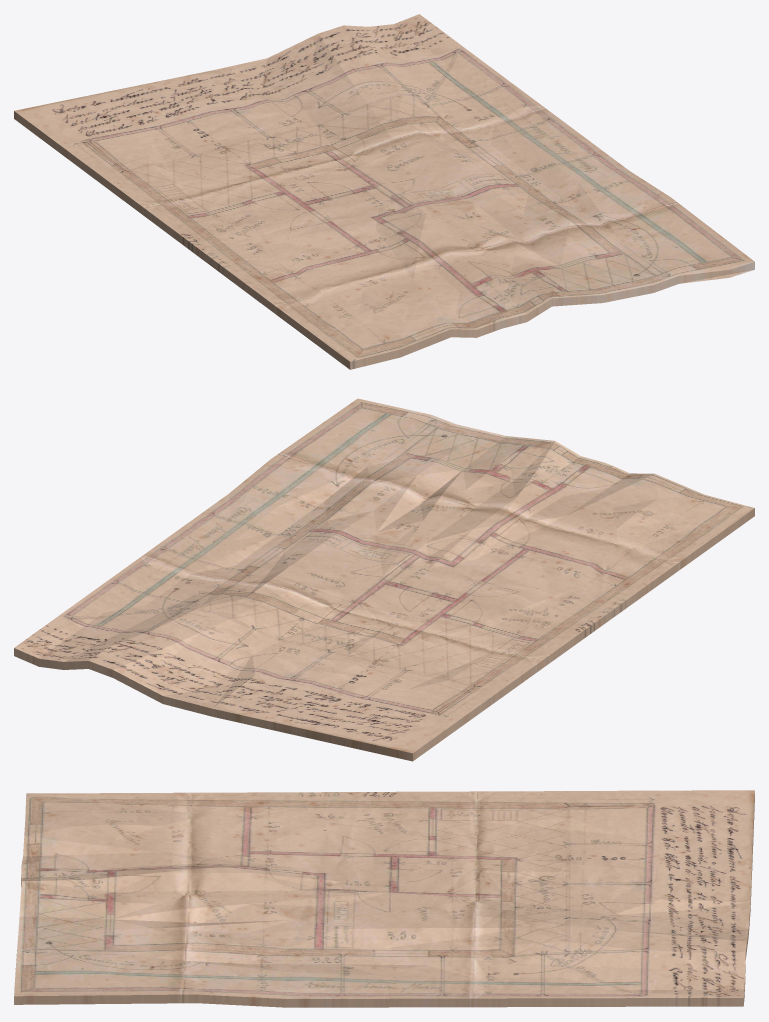
File: papier2.fbx
3 views of the same model, one above another, from view 1: azimuth 30°, elevation 25°; view 2: azimuth 150°, elevation 25°; view 3: azimuth 270°, elevation 25° (orthographic). The views are drawn at different scales.
Visible parts, largest first — view 1: Plane.001; view 2: Plane.001; view 3: Plane.001.
Boxes of the visible parts, bbox=[...] form: Plane.001: bbox=[14, 14, 754, 369]; Plane.001: bbox=[14, 398, 754, 761]; Plane.001: bbox=[14, 790, 754, 1007].
Size of the model in its own units: 27.99 by 1.9 by 41.43.
